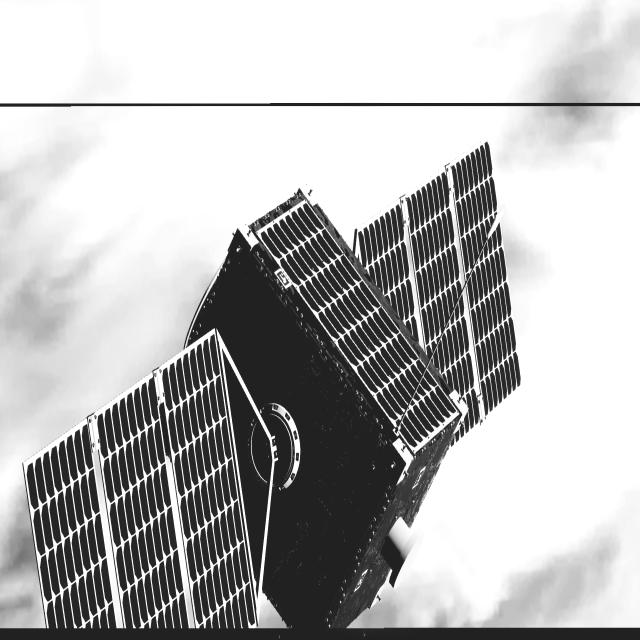medium_debris: (21, 143, 522, 631)
